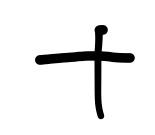plus: (35, 25, 135, 119)
